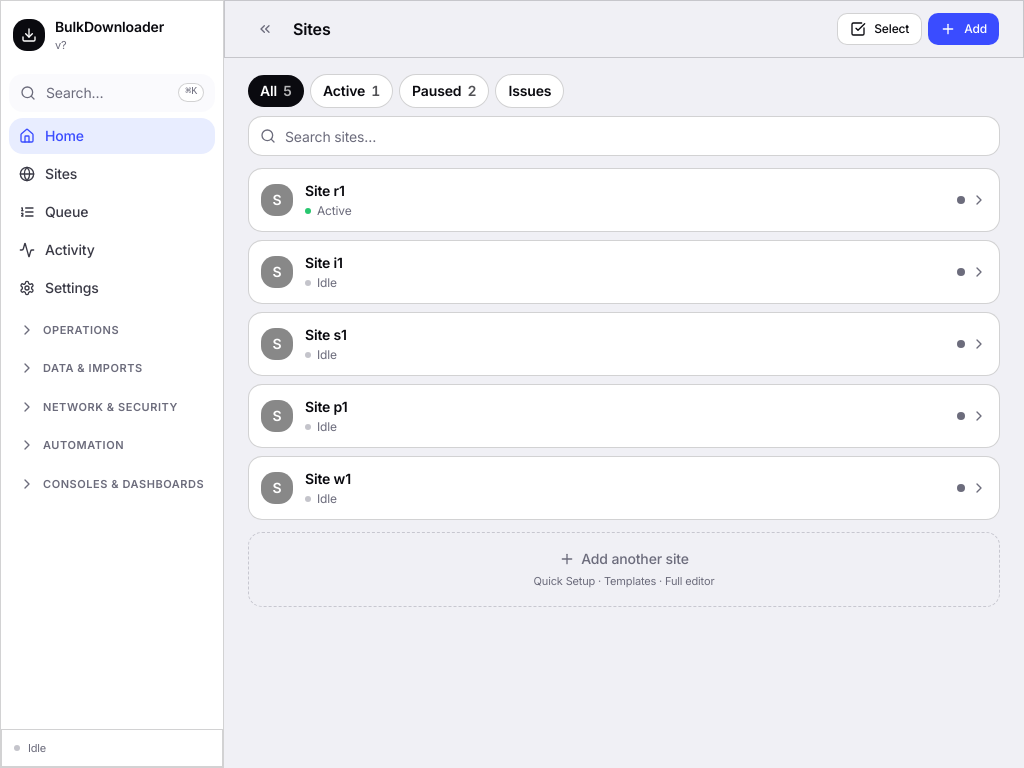
Test: ssqh-f6 Sites Paused tab and bulk Pause toast › the Paused tab lists paused sites only, not idle/stopped ones
Check: the text "Site i1" is shown, box top-left (305, 254), bottom-right (343, 271)
Click the button with aria-label "Filter: Paused" at [444, 91], box top-left (399, 74), bottom-right (489, 108)
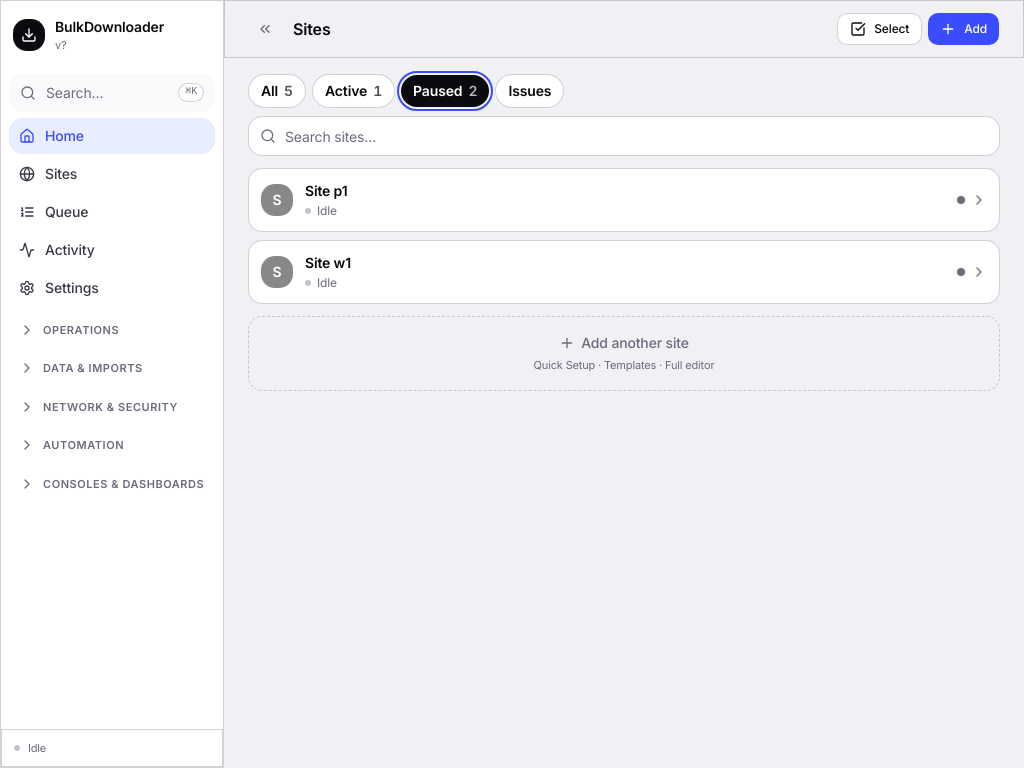
Check: the button "Site i1" is gone
Check: the button "Site s1" is gone
Check: the button "Site r1" is gone
